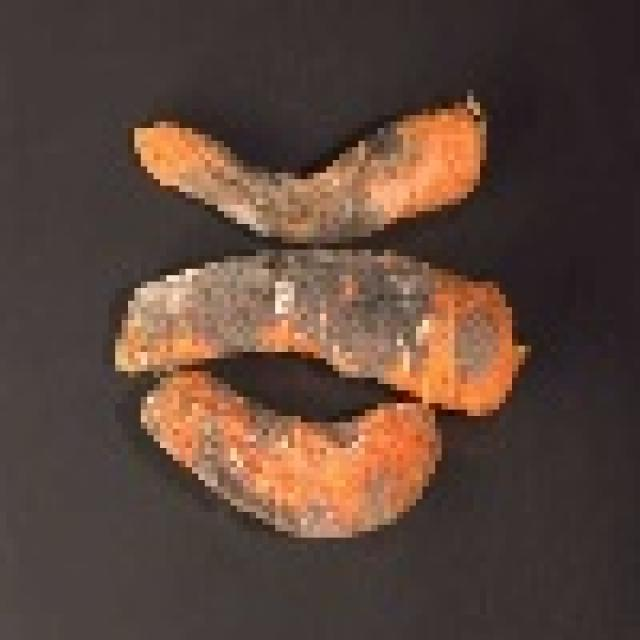Stale_Carrot: (99, 229, 528, 423), (116, 352, 451, 528), (119, 101, 494, 235)
